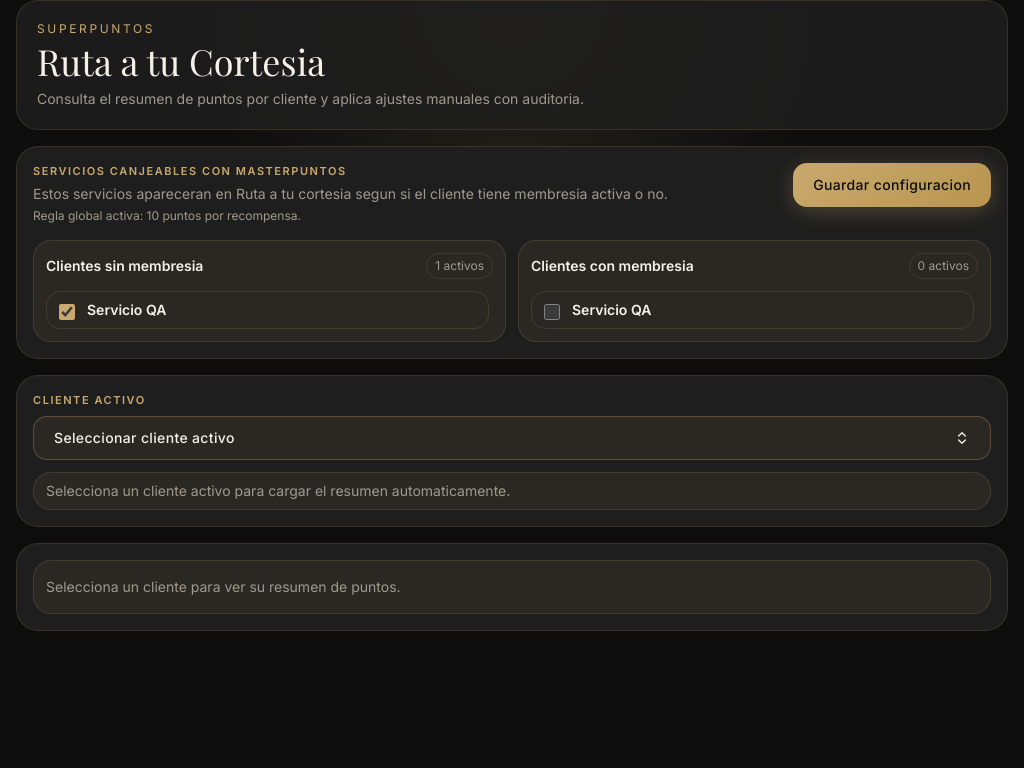
Test: búsqueda fallida permite reintentar desde el selector sin escrituras
expect the text "Regla global activa: 10 puntos por recompensa." is shown: met, box x1=33 y1=208 x2=301 y2=222
Click the button "Seleccionar cliente activo" at x=144, y=438, box x1=33 y1=416 x2=991 y2=460
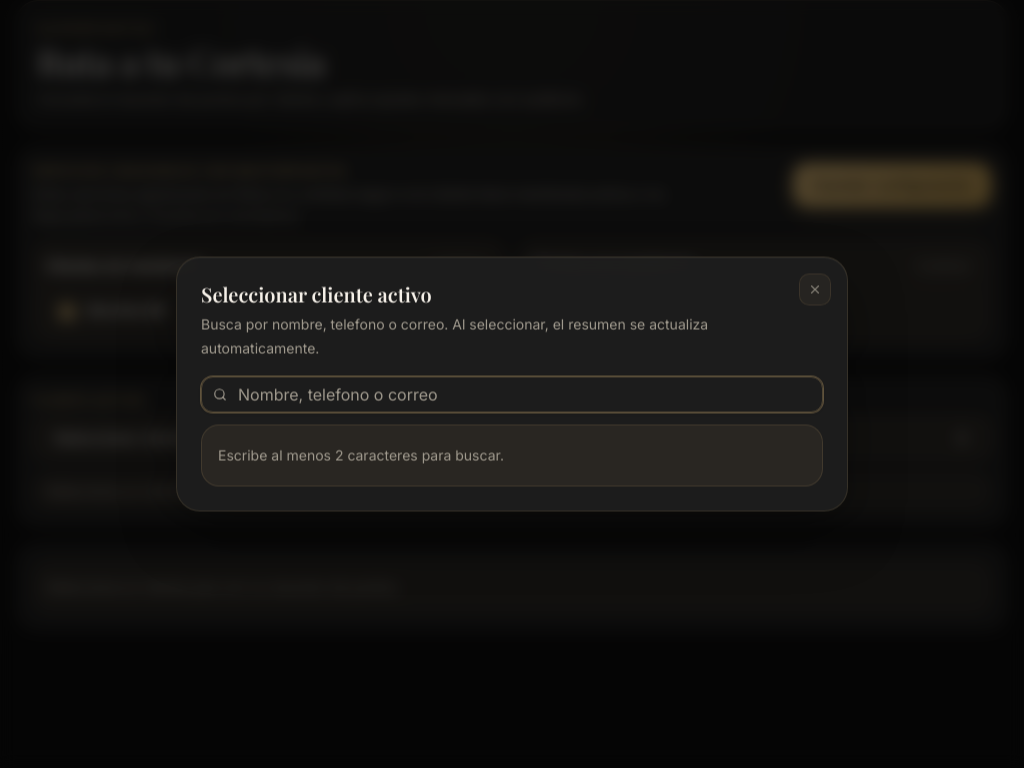
Type "Cliente" into the field named "Buscar cliente activo" at x=512, y=394, box x1=201 y1=376 x2=823 y2=412
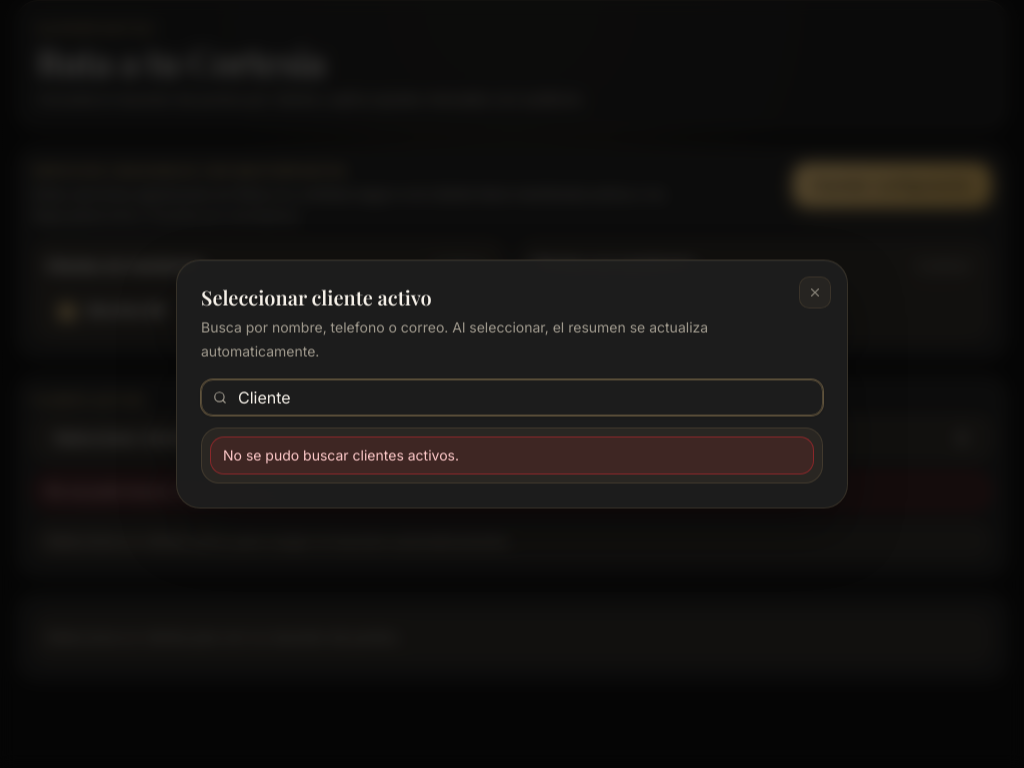
Clear the field named "Buscar cliente activo" at x=512, y=398, box x1=201 y1=380 x2=823 y2=416
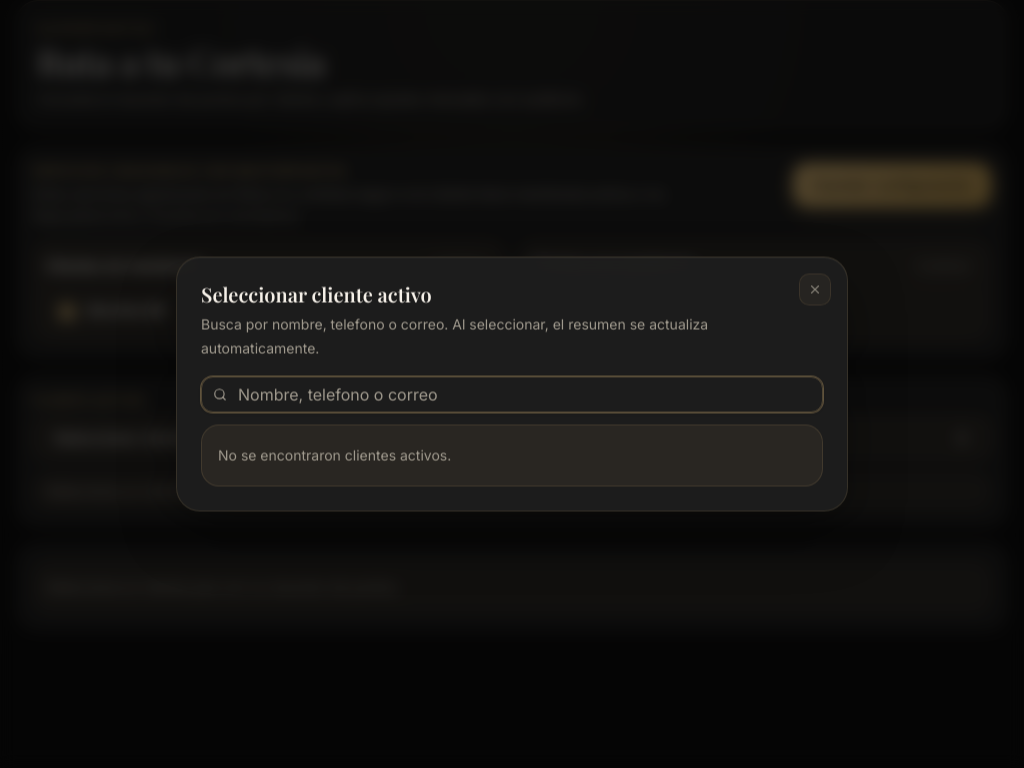
Type "Cliente" into the field named "Buscar cliente activo" at x=512, y=394, box x1=201 y1=376 x2=823 y2=412
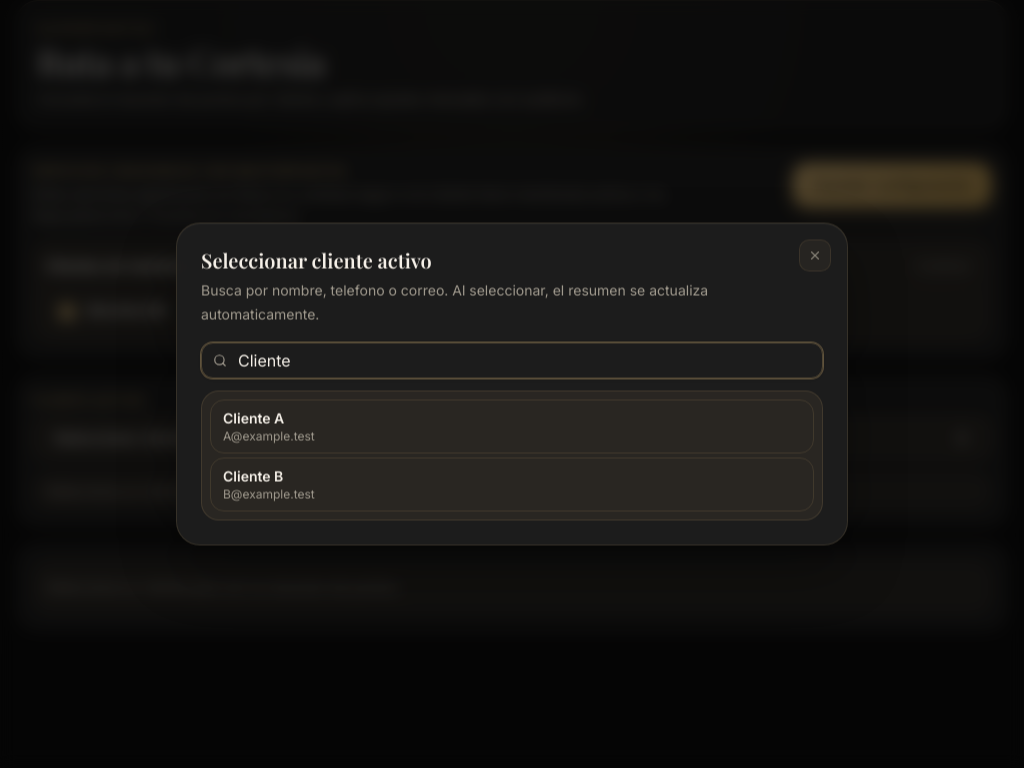
expect the button "Cliente B B@example.test" is shown: met, box x1=210 y1=458 x2=814 y2=512
